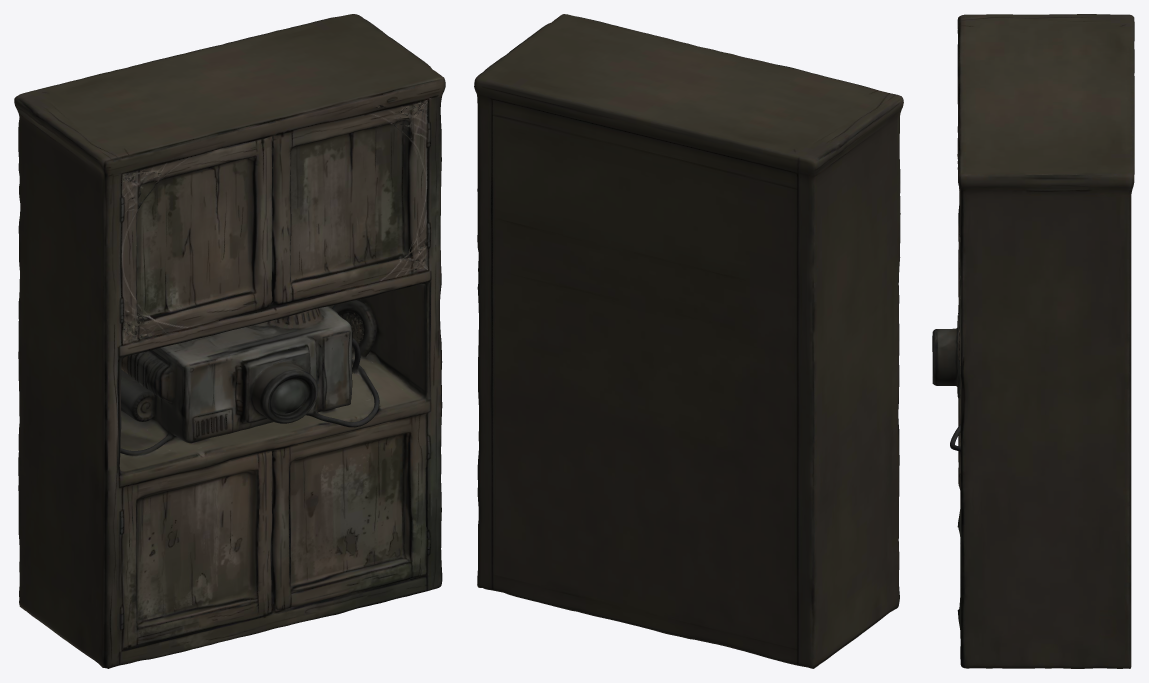
File: proyector.fbx
3 views of the same model, side by side, from view 1: azimuth 30°, elevation 25°; view 2: azimuth 150°, elevation 25°; view 3: azimuth 270°, elevation 25° (orthographic). The views are drawn at different scales.
Visible parts, largest first — view 1: tripo_node_ba6507e3; view 2: tripo_node_ba6507e3; view 3: tripo_node_ba6507e3.
Boxes of the visible parts, x1=… form: tripo_node_ba6507e3: x1=14, y1=14, x2=445, y2=668; tripo_node_ba6507e3: x1=474, y1=14, x2=903, y2=668; tripo_node_ba6507e3: x1=932, y1=14, x2=1134, y2=668.
Bounding box in the file's own units: 69.13 × 36.22 × 98.1.
